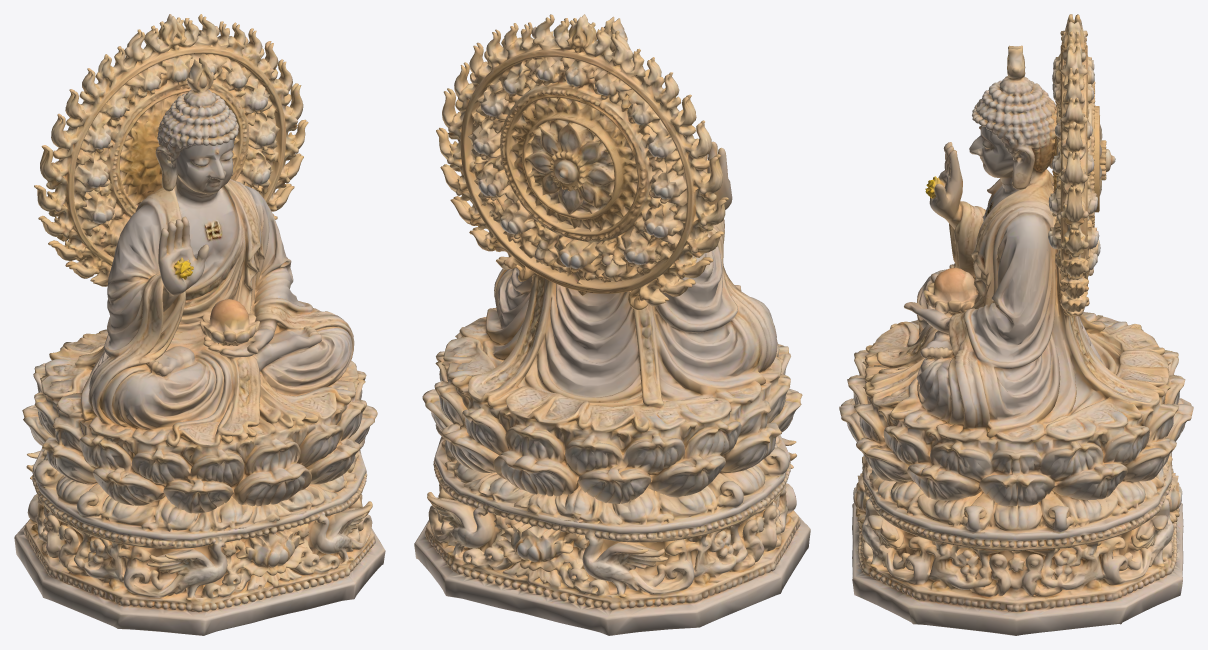
3 views of the same model, side by side, from view 1: azimuth 30°, elevation 25°; view 2: azimuth 150°, elevation 25°; view 3: azimuth 270°, elevation 25° (orthographic). The views are drawn at different scales.
Visible parts, largest first — view 1: four-heavenly-kings-04; view 2: four-heavenly-kings-04; view 3: four-heavenly-kings-04.
Part boxes in pixels (<box>): four-heavenly-kings-04: <box>14,14,385,635</box>; four-heavenly-kings-04: <box>414,14,810,635</box>; four-heavenly-kings-04: <box>839,14,1193,635</box>.
Size of the model in its own units: 0.6302 by 1 by 0.5993.
Materials: 1 (1 with a texture image).
